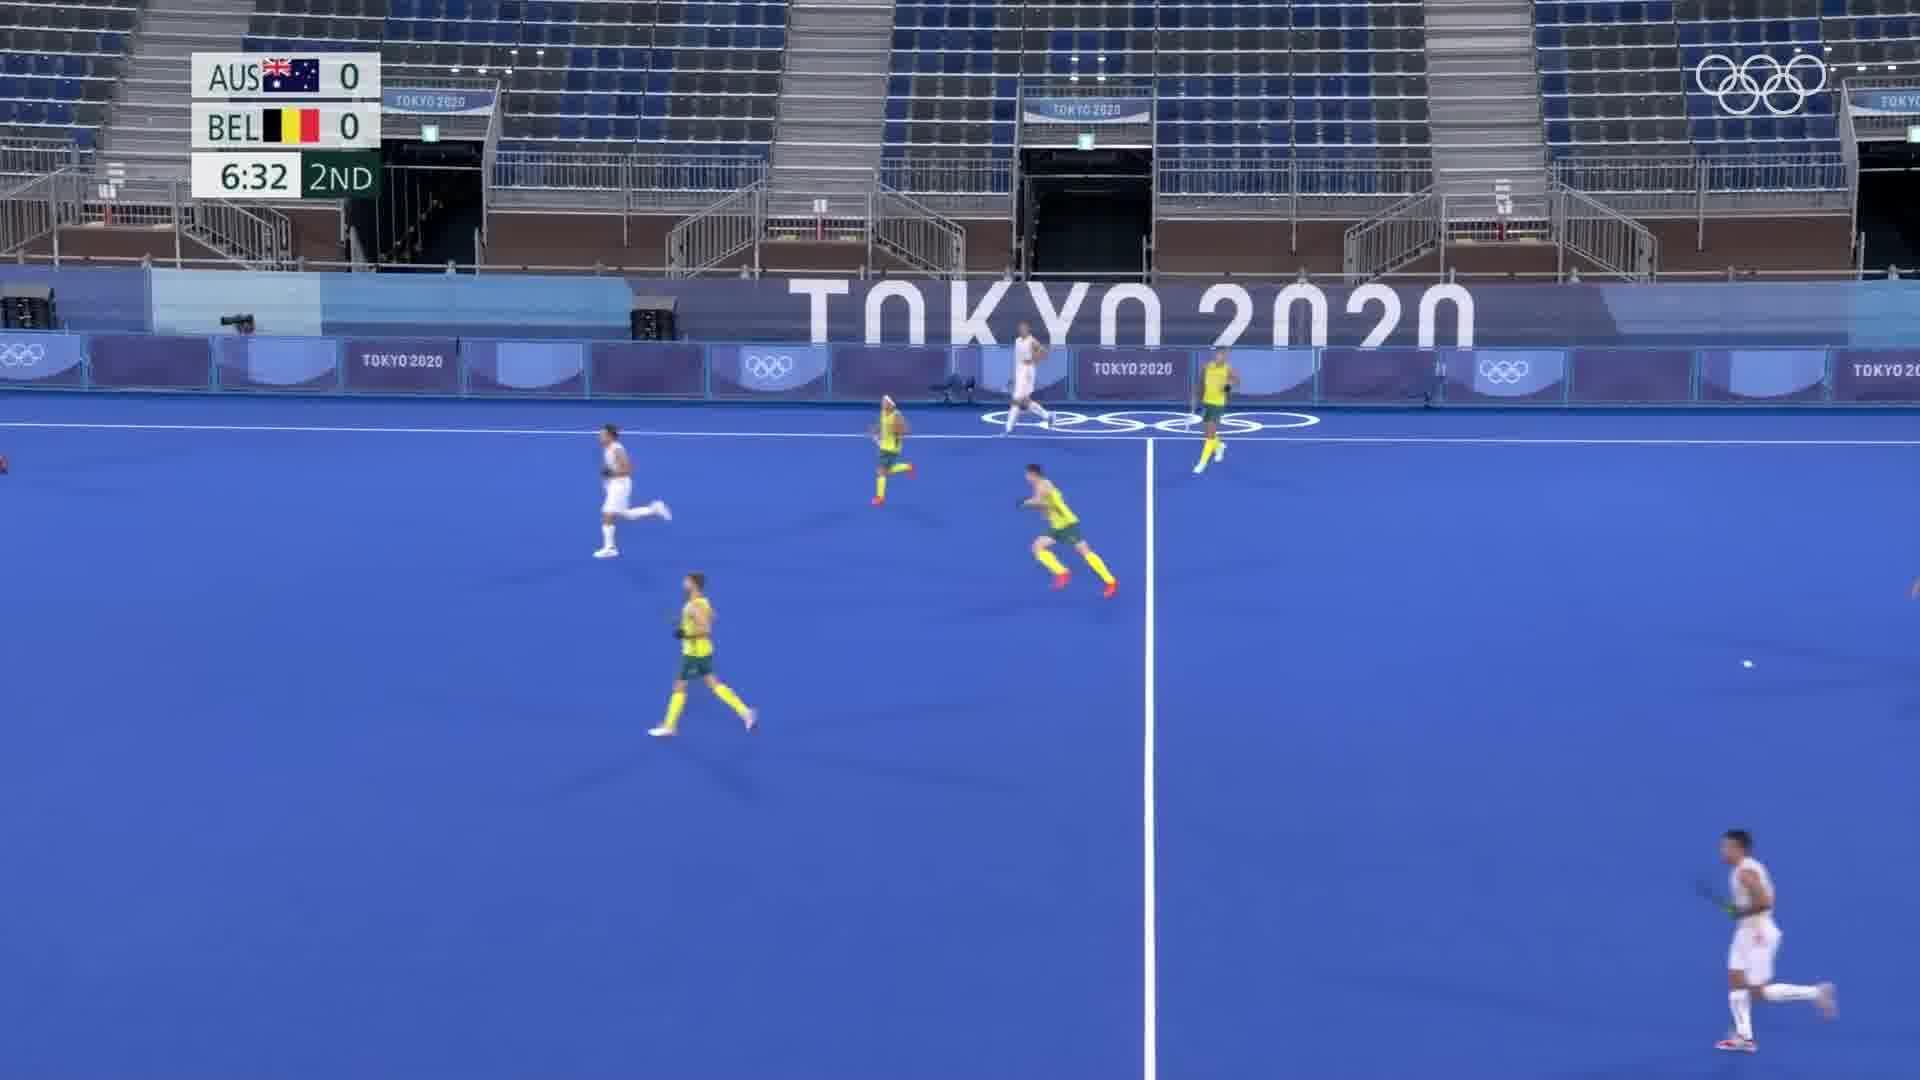ball: (1737, 647, 1764, 676)
